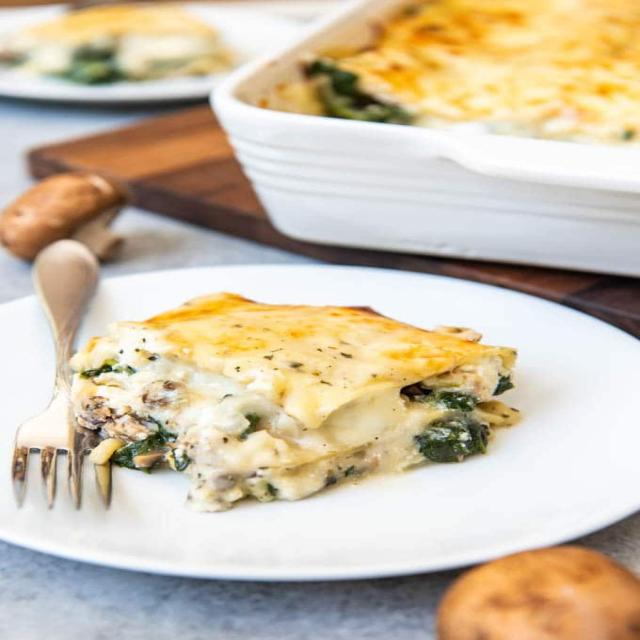Bechamel: (24, 270, 615, 541), (188, 0, 638, 226)
